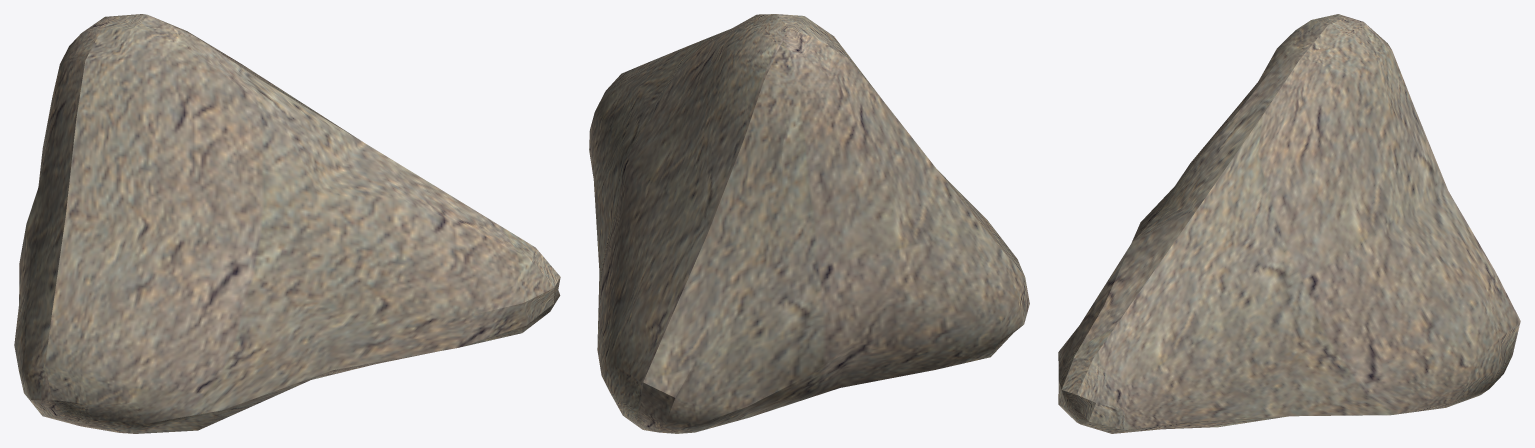
The model's file is steentjes voor activiteit 2 medium.fbx.
3 renders of one model, left to right at view 1: azimuth 30°, elevation 25°; view 2: azimuth 150°, elevation 25°; view 3: azimuth 270°, elevation 25°, orthographic. The views are drawn at different scales.
Visible parts, largest first — view 1: rock.002; view 2: rock.002; view 3: rock.002.
Part boxes in pixels (box(x1,y1,x2,y2)): rock.002: box(14, 14, 560, 433); rock.002: box(589, 14, 1029, 433); rock.002: box(1058, 14, 1520, 433).
Size of the model in its own units: 15.22 by 11.17 by 13.28.
Materials: 1 (1 with a texture image).
